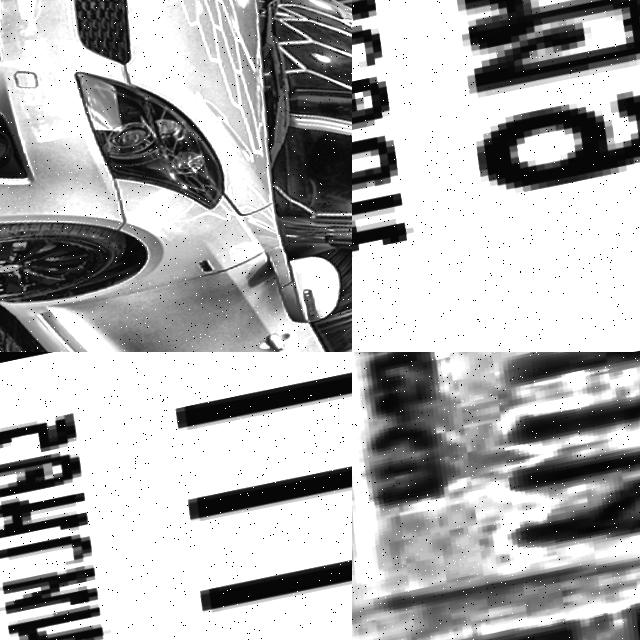license-plate: (352, 0, 640, 352), (0, 352, 352, 640), (352, 352, 640, 640)
